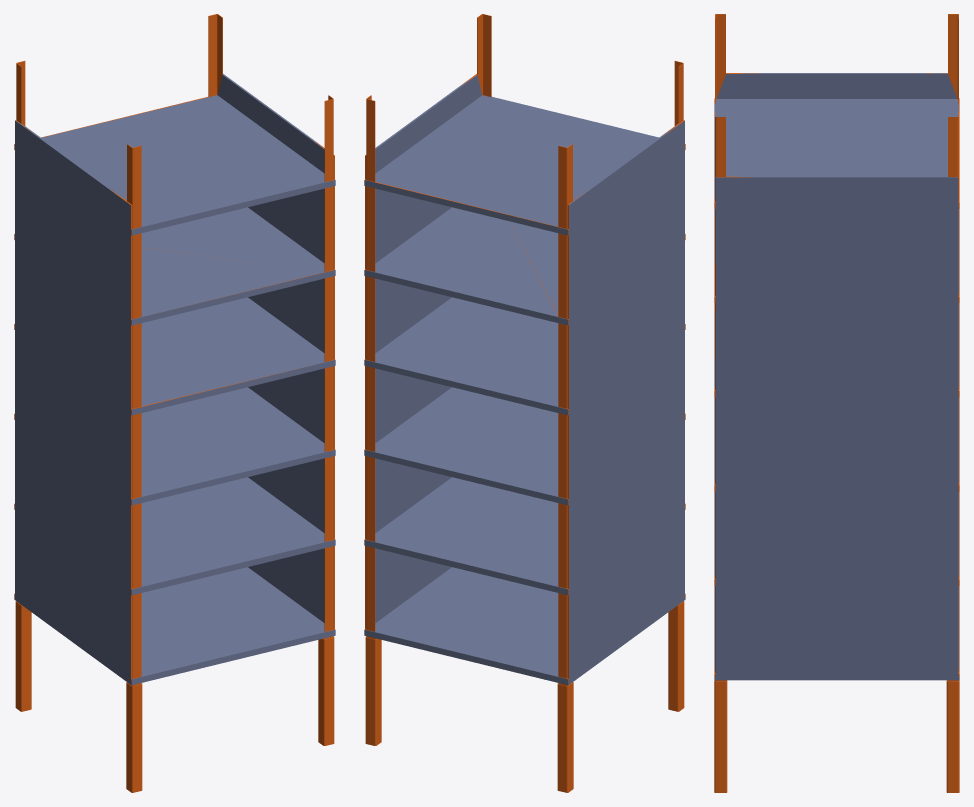
The model's file is Robo shelves.dae.
The picture shows the model from 3 angles, left to right: view 1: azimuth 30°, elevation 25°; view 2: azimuth 150°, elevation 25°; view 3: azimuth 270°, elevation 25°; orthographic projection. The views are drawn at different scales.
Visible parts, largest first — view 1: pod_lowres; view 2: pod_lowres; view 3: pod_lowres.
Boxes of the visible parts, box(x1,y1,x2,y2) form: pod_lowres: box(14, 14, 335, 792); pod_lowres: box(364, 14, 685, 792); pod_lowres: box(714, 14, 959, 792).
Size of the model in its own units: 0.712 by 0.708 by 2.15.
